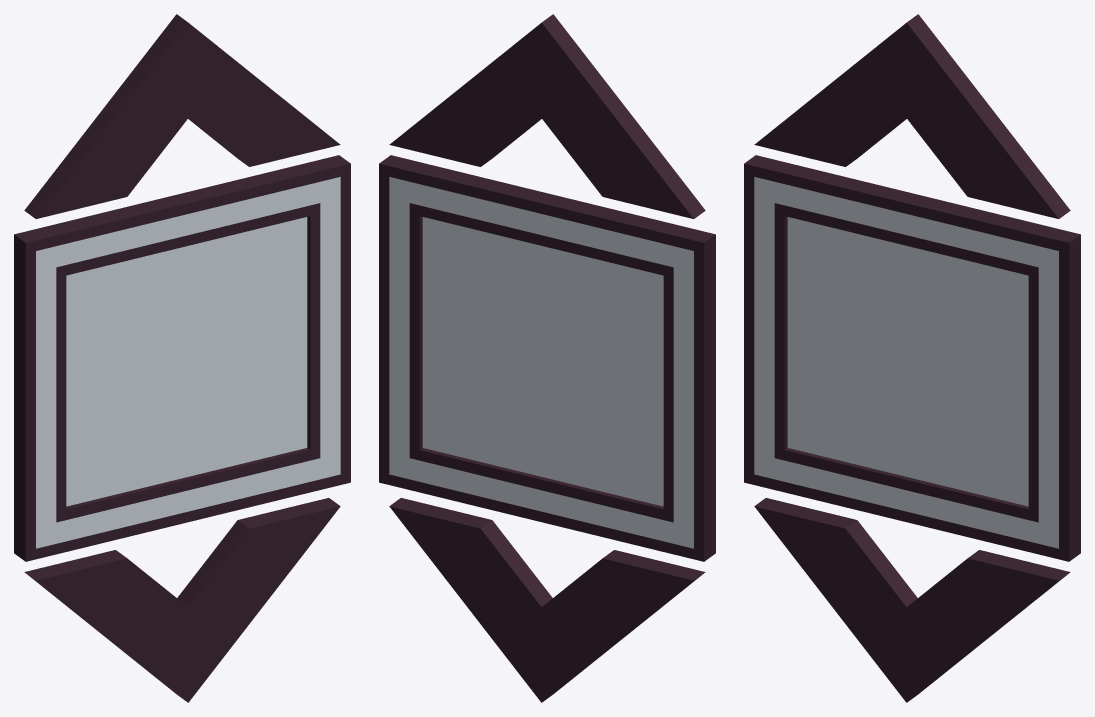
Rendered from Code Entry Panel.fbx.
3 views of the same model, side by side, from view 1: azimuth 30°, elevation 25°; view 2: azimuth 150°, elevation 25°; view 3: azimuth 330°, elevation 25° (orthographic).
Visible parts, largest first — view 1: generated; view 2: generated; view 3: generated.
Part boxes in pixels (box(x1,y1,x2,y2)): generated: box(14, 14, 350, 702); generated: box(379, 14, 715, 702); generated: box(744, 14, 1080, 702).
Size of the model in its own units: 1280 by 2560 by 80.
